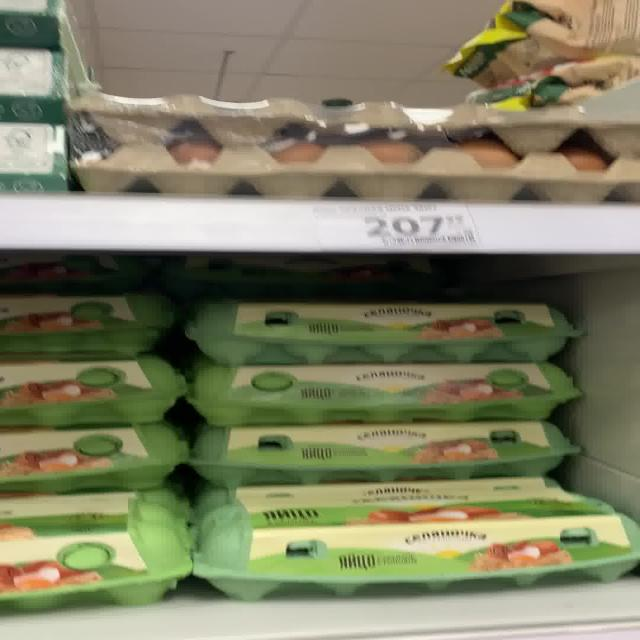egg box: (188, 479, 636, 599), (174, 300, 579, 367), (179, 423, 577, 488), (179, 362, 579, 425)
